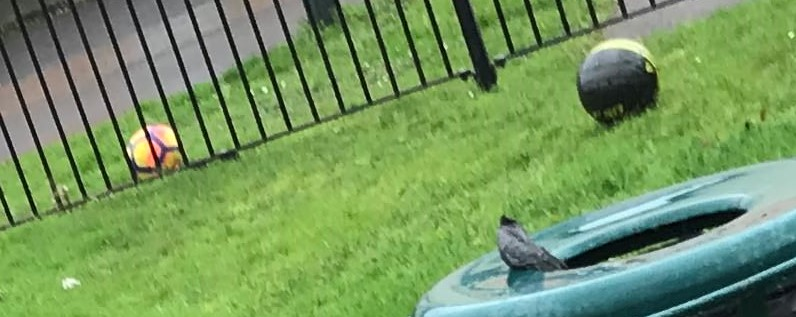football: (572, 42, 670, 117), (127, 122, 189, 179)
